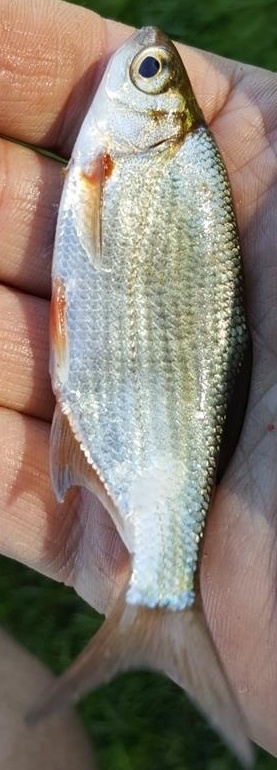Scardinius erythrophthalmus: (20, 20, 257, 750)
